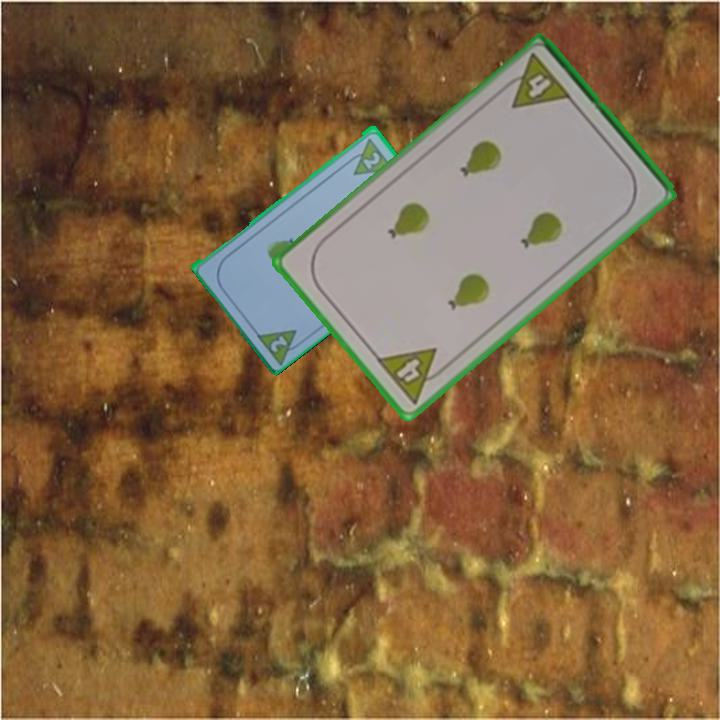2p: (359, 148, 383, 172), (267, 332, 291, 355)
4p: (372, 344, 453, 407), (496, 50, 575, 112)
